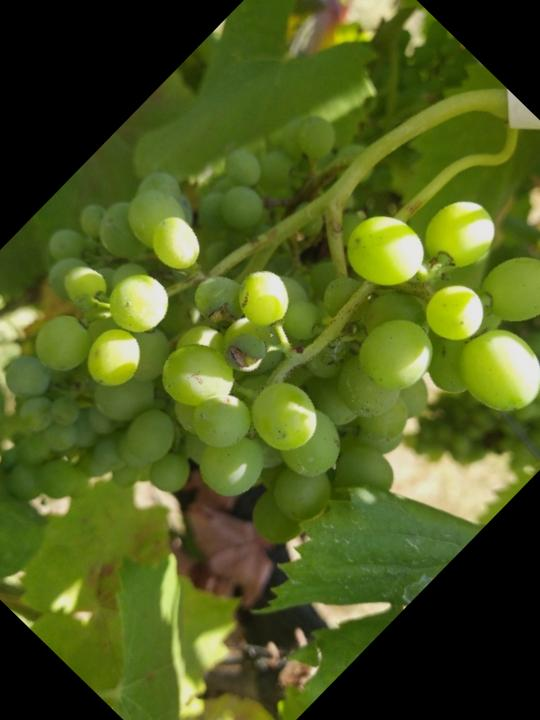grape: (0, 0, 540, 711)
